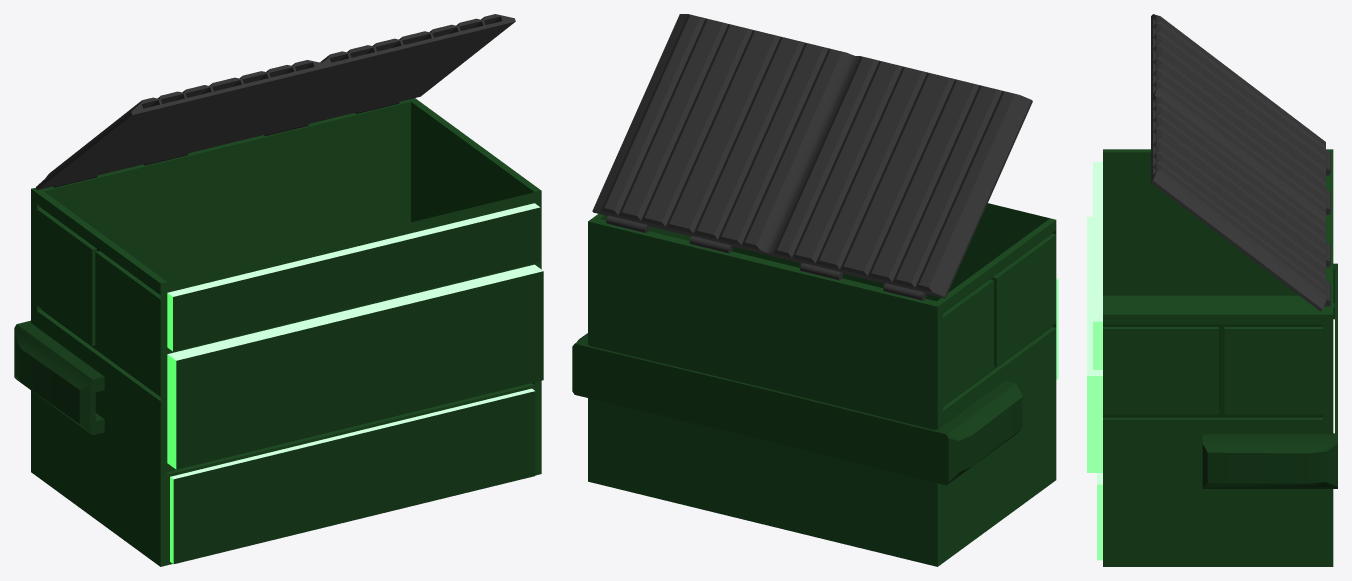
Rendered from Dumpster.fbx.
The picture shows the model from 3 angles, left to right: view 1: azimuth 30°, elevation 25°; view 2: azimuth 150°, elevation 25°; view 3: azimuth 270°, elevation 25°; orthographic projection. The views are drawn at different scales.
Visible parts, largest first — view 1: Body, Door; view 2: Body, Door; view 3: Body, Door.
Part boxes in pixels (bbox=[...]): Body: bbox=[14, 98, 543, 566]; Door: bbox=[36, 14, 515, 190]; Body: bbox=[572, 203, 1058, 566]; Door: bbox=[592, 14, 1032, 300]; Body: bbox=[1087, 149, 1337, 566]; Door: bbox=[1151, 14, 1330, 311].
Size of the model in its own units: 169 by 166 by 96.43.
